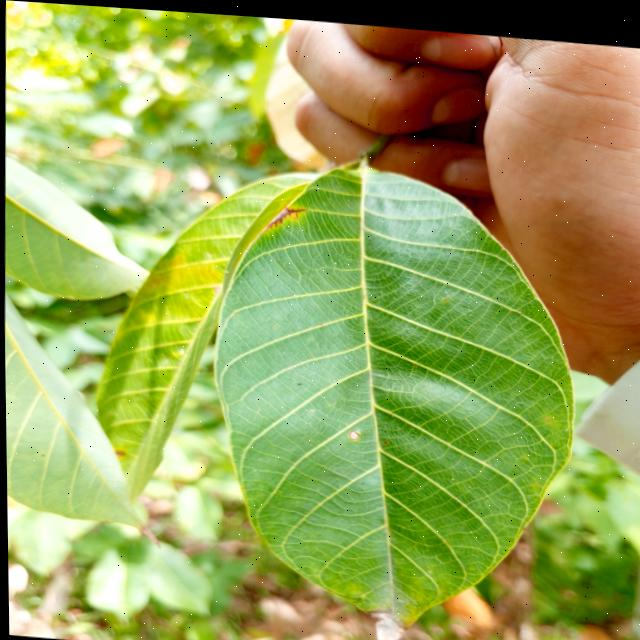Colletotrichum: (367, 605, 406, 640), (347, 424, 358, 435)
Corynespora: (267, 201, 304, 228)
